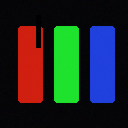4 line_v: (36, 15, 40, 47)
